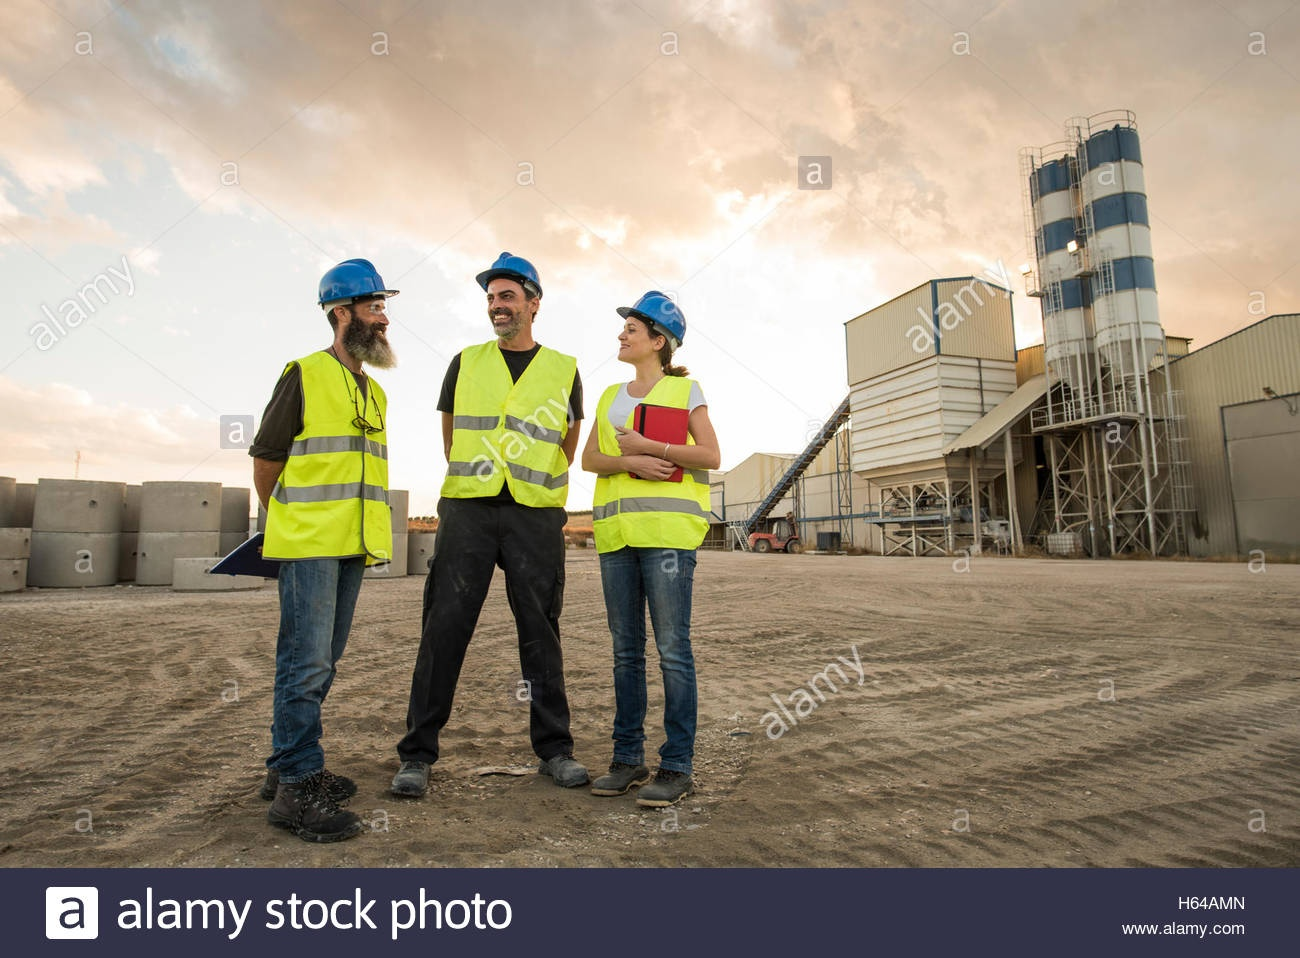helmet: (607, 286, 692, 341), (309, 261, 405, 300), (473, 253, 546, 295)
person with full safety: (242, 247, 400, 850), (411, 258, 586, 785), (589, 283, 715, 819)
safety vest: (263, 352, 393, 568), (446, 335, 573, 513), (593, 378, 715, 551)
